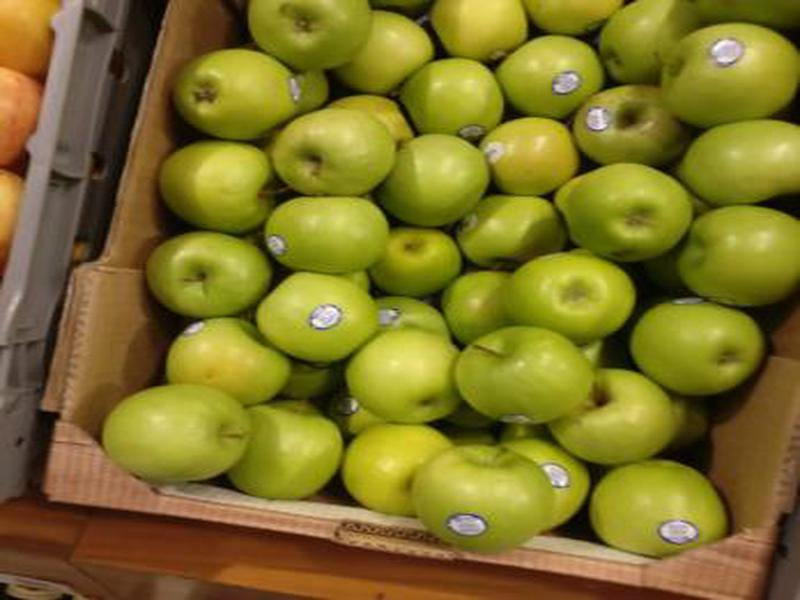green apple: (410, 444, 563, 556), (96, 384, 255, 486), (653, 21, 800, 126), (454, 326, 597, 424), (584, 460, 729, 556), (629, 297, 767, 396), (677, 204, 799, 310), (566, 162, 694, 263), (541, 370, 683, 461), (504, 253, 637, 345), (173, 49, 300, 143), (219, 403, 342, 500), (345, 328, 466, 425), (255, 271, 382, 363), (157, 138, 277, 234), (165, 317, 293, 405), (342, 421, 457, 518), (144, 231, 272, 317), (678, 118, 800, 207), (378, 133, 491, 229), (273, 110, 397, 197), (265, 197, 391, 273), (495, 32, 606, 118), (572, 84, 687, 165), (502, 435, 590, 535), (247, 1, 374, 69), (401, 57, 506, 139), (599, 1, 702, 82), (458, 194, 567, 270), (335, 10, 433, 94), (481, 117, 581, 196), (368, 227, 463, 296), (442, 269, 520, 348), (429, 1, 528, 60), (372, 297, 451, 340), (531, 1, 627, 35), (691, 1, 800, 27), (676, 401, 709, 450)
